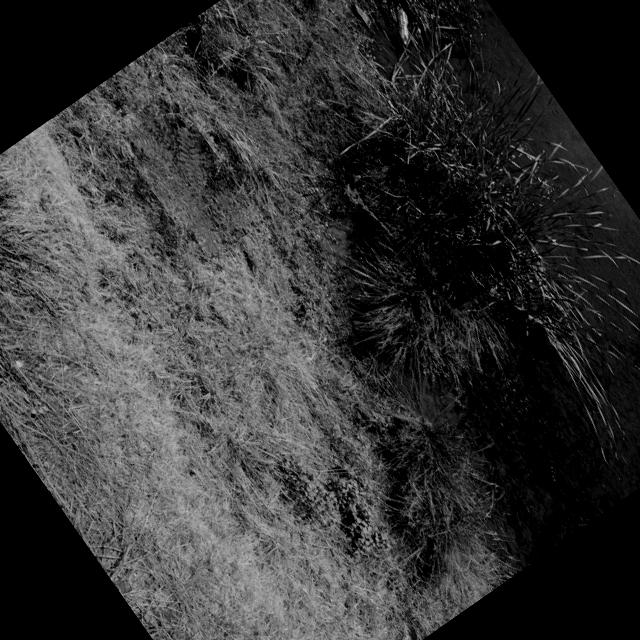Mysore-Thorn-Weed: (108, 84, 264, 264)
